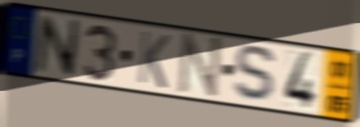3: (80, 22, 118, 84)
4: (281, 49, 318, 113)
K: (135, 29, 172, 92)
N: (176, 31, 225, 102), (33, 13, 82, 80)
S: (231, 43, 281, 105)
